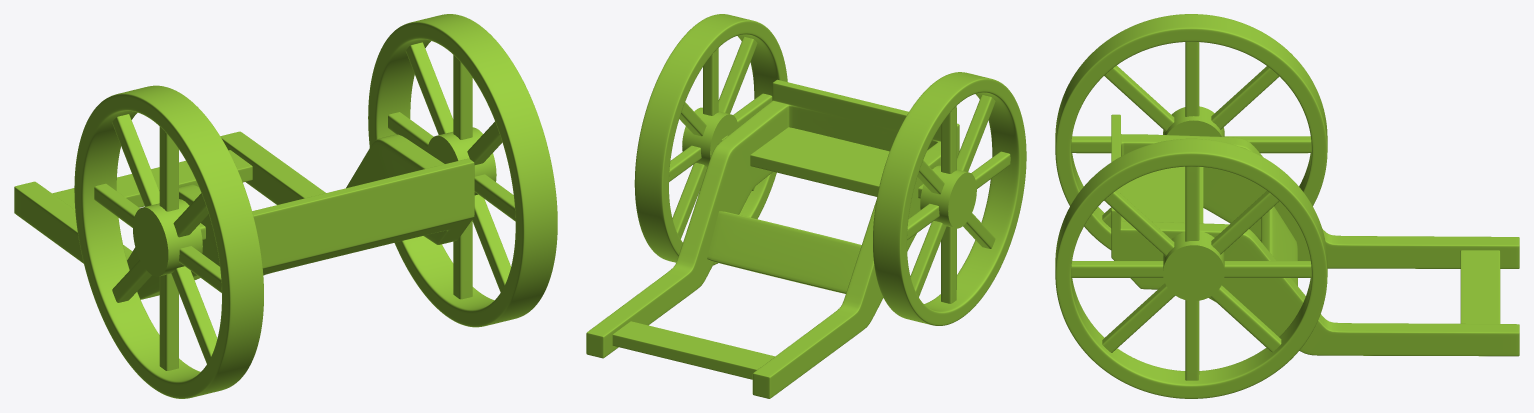
File: CannonBase.glb
3 views of the same model, side by side, from view 1: azimuth 30°, elevation 25°; view 2: azimuth 150°, elevation 25°; view 3: azimuth 270°, elevation 25° (orthographic). The views are drawn at different scales.
Visible parts, largest first — view 1: pCylinder9, pCube3, pCylinder6, pCube14, pCube12, pCube15, pCylinder8, pCube9, pCube13, pCube10, pCube6, pCube16 (+2 smaller); view 2: pCube3, pCylinder9, pCylinder6, pCube8, pCube7, pCube6, pCube16, pCube11, pCylinder8, pCube15, pCylinder7, pCube13 (+4 smaller); view 3: pCube3, pCylinder6, pCylinder9, pCylinder7, pCube10, pCube7, pCube6, pCube11, pCube12, pCube9, pCube13, pCube14 (+4 smaller).
Part boxes in pixels (x1,y1,x2,y2): pCylinder9: (74, 85, 263, 398); pCube3: (14, 131, 474, 299); pCylinder6: (368, 14, 557, 327); pCube14: (112, 114, 217, 363); pCube12: (406, 42, 510, 292); pCube15: (159, 126, 178, 370); pCylinder8: (133, 199, 202, 276); pCube9: (453, 55, 472, 299); pCube13: (94, 183, 221, 292); pCube10: (388, 112, 515, 221); pCube6: (52, 150, 252, 209); pCube16: (112, 193, 208, 302); pCube3: (586, 79, 959, 398); pCylinder9: (873, 72, 1026, 325); pCylinder6: (634, 14, 787, 265); pCube8: (707, 211, 861, 293); pCube7: (750, 127, 889, 196); pCube6: (612, 321, 774, 379); pCube16: (910, 95, 995, 297); pCube11: (672, 36, 757, 238); pCylinder8: (920, 165, 976, 228); pCube15: (941, 106, 956, 303); pCylinder7: (682, 107, 738, 167); pCube13: (907, 151, 1010, 239); pCube3: (1111, 114, 1519, 356); pCylinder6: (1055, 138, 1327, 398); pCylinder9: (1055, 14, 1327, 249); pCylinder7: (1163, 231, 1224, 300); pCube10: (1071, 261, 1311, 277); pCube7: (1121, 166, 1203, 223); pCube6: (1460, 250, 1500, 323); pCube11: (1104, 190, 1281, 352); pCube12: (1102, 191, 1279, 352); pCube9: (1185, 166, 1199, 380); pCube13: (1071, 136, 1311, 153); pCube14: (1102, 66, 1279, 227).
Bounding box in the file's own units: 8.33 × 6.88 × 11.73.
